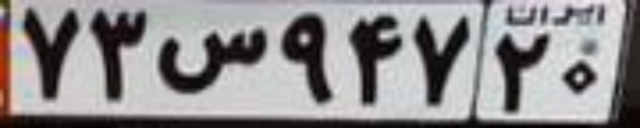0: (556, 60, 598, 94)
2: (496, 33, 549, 111)
3: (91, 7, 146, 101)
4: (348, 14, 402, 103)
7: (22, 7, 82, 99), (414, 13, 474, 105)
9: (278, 13, 333, 101)
sin: (157, 27, 269, 94)
